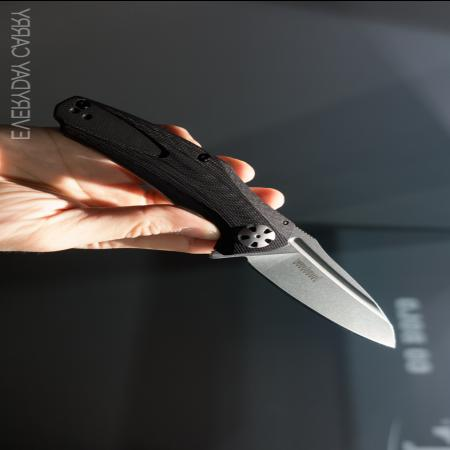long weapon: (45, 89, 406, 353)
